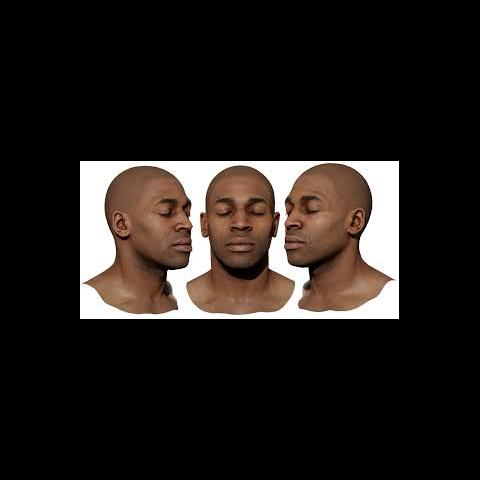closed: (212, 196, 270, 222), (154, 195, 196, 222), (283, 194, 326, 219)
